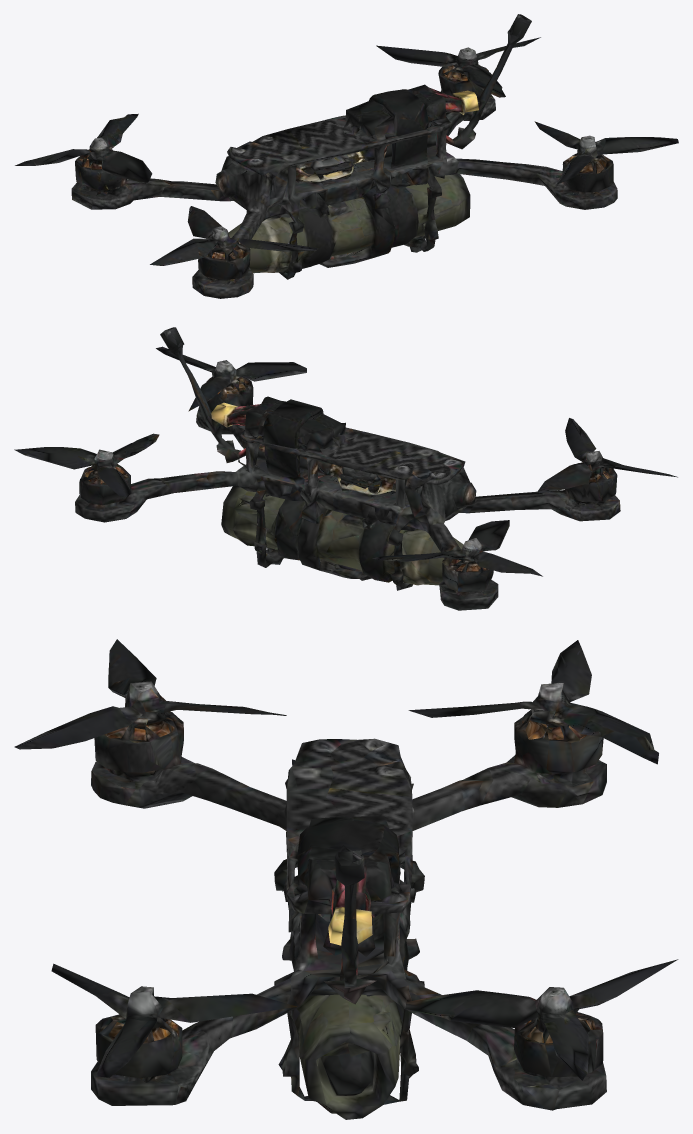
The model's file is fpv_drone_low.glb.
3 views of the same model, one above another, from view 1: azimuth 30°, elevation 25°; view 2: azimuth 150°, elevation 25°; view 3: azimuth 270°, elevation 25° (orthographic). The views are drawn at different scales.
Size of the model in its own units: 1.89 by 0.6991 by 1.21.
1 material, 1 textured.
